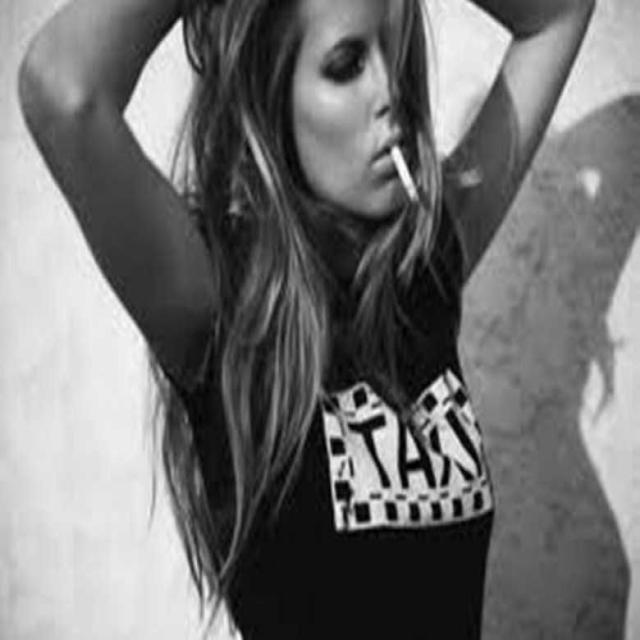Smooking: (391, 127, 422, 210)
